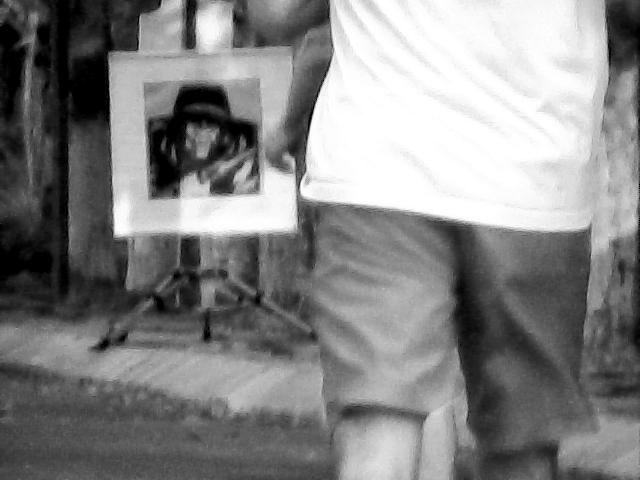chan: (95, 233, 315, 453)
objects: (143, 77, 266, 200)
